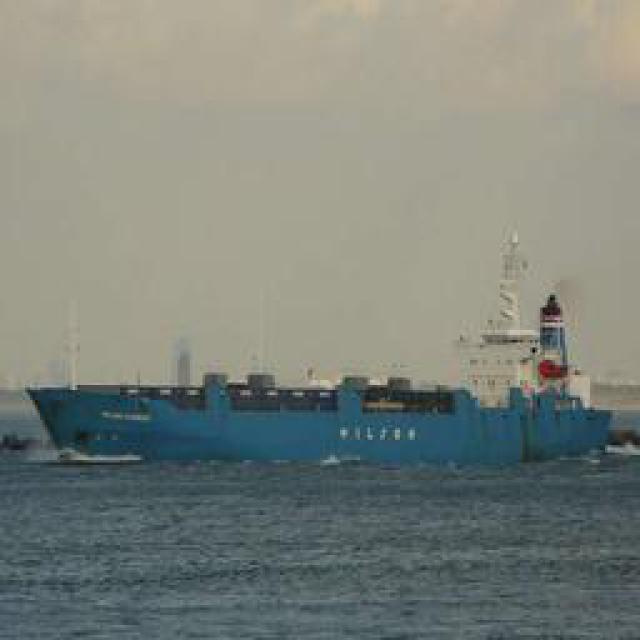Ship: (34, 375, 607, 465)
